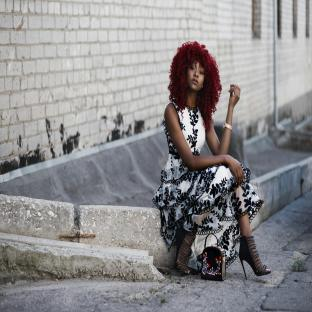Human: (153, 42, 271, 276)
